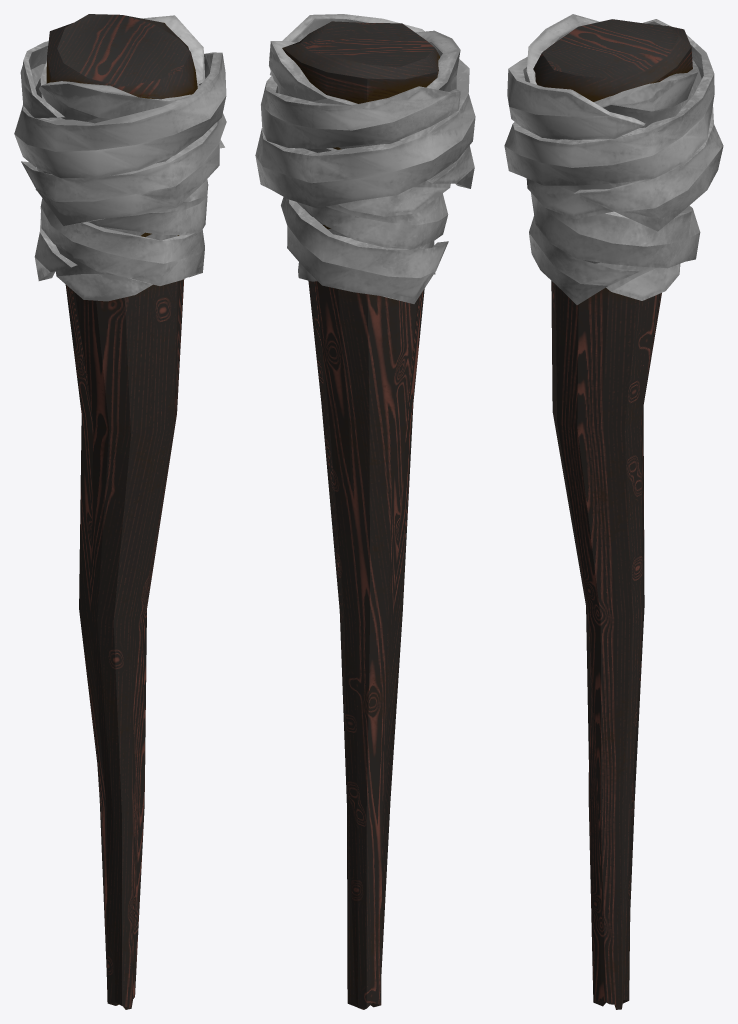
The model's file is torch04_2.fbx.
The picture shows the model from 3 angles, left to right: view 1: azimuth 30°, elevation 25°; view 2: azimuth 150°, elevation 25°; view 3: azimuth 270°, elevation 25°; orthographic projection.
Parts seen in each view (by area): view 1: Torch_1; view 2: Torch_1; view 3: Torch_1.
Part boxes in pixels (x1=…): Torch_1: x1=14, y1=14, x2=226, y2=1009; Torch_1: x1=255, y1=14, x2=475, y2=1009; Torch_1: x1=504, y1=14, x2=723, y2=1009.
Bounding box in the file's own units: 19.31 × 95.61 × 19.57.
